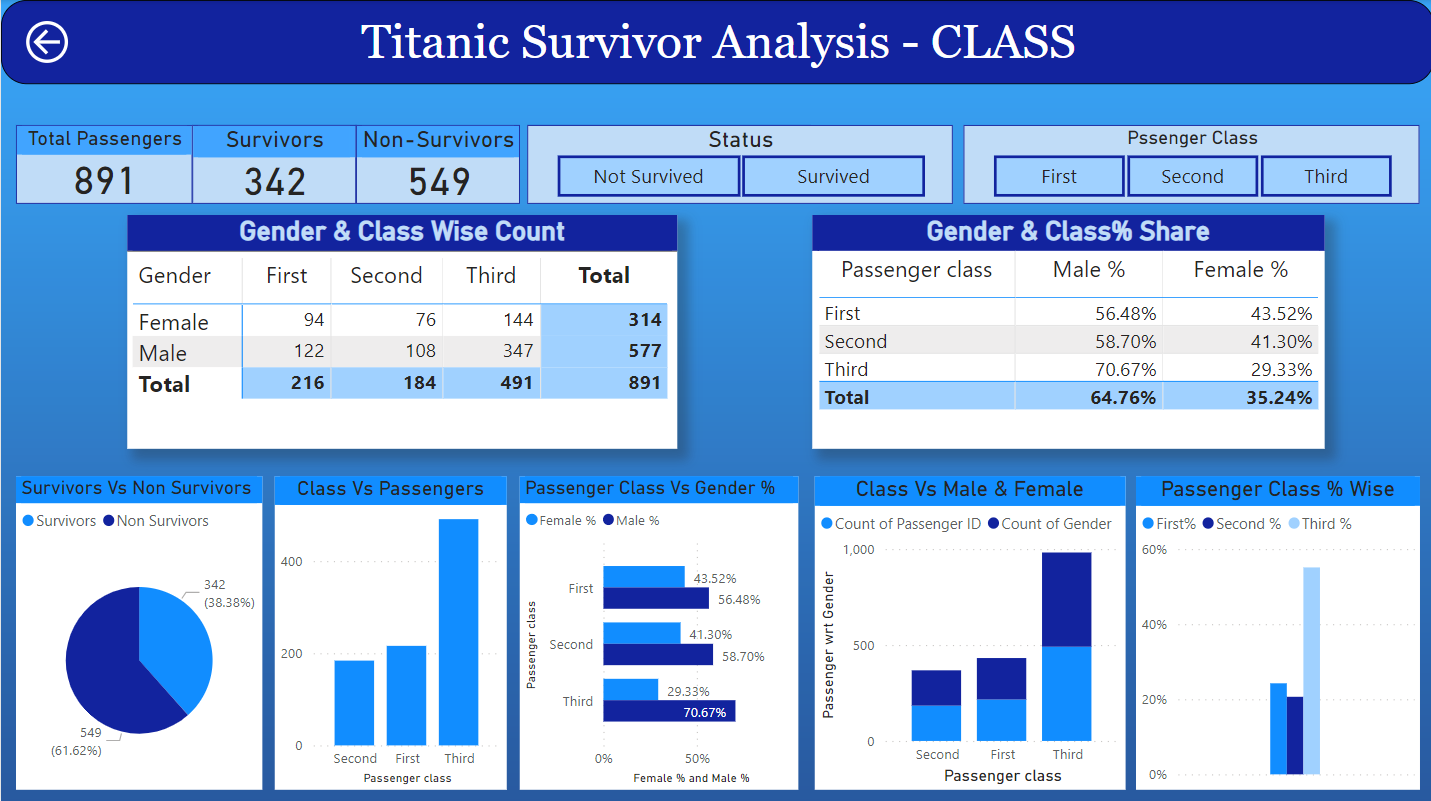

Layout of this report page (visuals, bound fields, positions):
{"tool":"powerbi","page":{"name":"Page 3","canvas":[1280,720],"ordinal":2},"visuals":[{"type":"pivotTable","title":"Gender & Class Wise Count","fields":{"Rows":["train.Gender"],"Columns":["train.Passenger class"],"Values":["train.Total Passengers"]},"box":[112.5,192.5,491.2,208.8],"z":0},{"type":"slicer","title":"Status","fields":{"Values":["train.Survived"]},"box":[470,111.2,380,70],"z":1000},{"type":"pieChart","title":"Survivors Vs Non Survivors","fields":{"Y":["train.Survivors","train.Non Survivors"]},"box":[13.8,425,220,280],"z":2000},{"type":"slicer","title":"Pssenger Class","fields":{"Values":["train.Passenger class"]},"box":[860,111.2,407.5,70],"z":3000},{"type":"card","title":"Total Passengers","fields":{"Values":["train.Total Passengers"]},"box":[13.8,111.2,157.5,70],"z":4000},{"type":"card","title":"Survivors","fields":{"Values":["train.Survivors"]},"box":[171.2,111.2,146.2,70],"z":5000},{"type":"card","title":"Non-Survivors","fields":{"Values":["train.Non Survivors"]},"box":[317.5,111.2,146.2,70],"z":6000},{"type":"clusteredColumnChart","title":"Class Vs Passengers","fields":{"Category":["train.Passenger class"],"Y":["CountNonNull(train.Passenger ID)"]},"box":[245,425,207.5,280],"z":7000},{"type":"columnChart","title":"Class Vs Male & Female ","fields":{"Category":["train.Passenger class"],"Y":["CountNonNull(train.Passenger ID)","CountNonNull(train.Gender)"]},"box":[726.2,425,277.5,280],"z":8000},{"type":"tableEx","title":"Gender & Class% Share","fields":{"Values":["train.Passenger class","train.male%","train.female%"]},"box":[725,192.5,457.5,208.8],"z":9000},{"type":"clusteredBarChart","title":"Passenger Class Vs Gender %","fields":{"Category":["train.Passenger class"],"Y":["train.Female %","train.Male %"]},"box":[463.8,425,248.8,280],"z":10000},{"type":"clusteredColumnChart","title":"Passenger Class % Wise","fields":{"Y":["train.1st %","train.2nd %","train.3rd %"]},"box":[1013.8,425,253.8,280],"z":11000},{"type":"textbox","box":[0,0,1280,75],"z":12000},{"type":"actionButton","box":[16.2,12.5,48.8,50],"z":13000}]}

Visuals, with their boxes in screenshot pixels (x1, y1, x2, y2), scaled from the page's 1280x720 canvas onto the 1431x801 screenshot:
"Gender & Class Wise Count" pivotTable: x1=126, y1=214, x2=675, y2=446
"Status" slicer: x1=525, y1=124, x2=950, y2=202
"Survivors Vs Non Survivors" pieChart: x1=15, y1=473, x2=261, y2=784
"Pssenger Class" slicer: x1=961, y1=124, x2=1417, y2=202
"Total Passengers" card: x1=15, y1=124, x2=192, y2=202
"Survivors" card: x1=191, y1=124, x2=355, y2=202
"Non-Survivors" card: x1=355, y1=124, x2=518, y2=202
"Class Vs Passengers" clusteredColumnChart: x1=274, y1=473, x2=506, y2=784
"Class Vs Male & Female " columnChart: x1=812, y1=473, x2=1122, y2=784
"Gender & Class% Share" tableEx: x1=811, y1=214, x2=1322, y2=446
"Passenger Class Vs Gender %" clusteredBarChart: x1=519, y1=473, x2=797, y2=784
"Passenger Class % Wise" clusteredColumnChart: x1=1133, y1=473, x2=1417, y2=784
textbox: x1=0, y1=0, x2=1430, y2=83
actionButton: x1=18, y1=14, x2=73, y2=70
